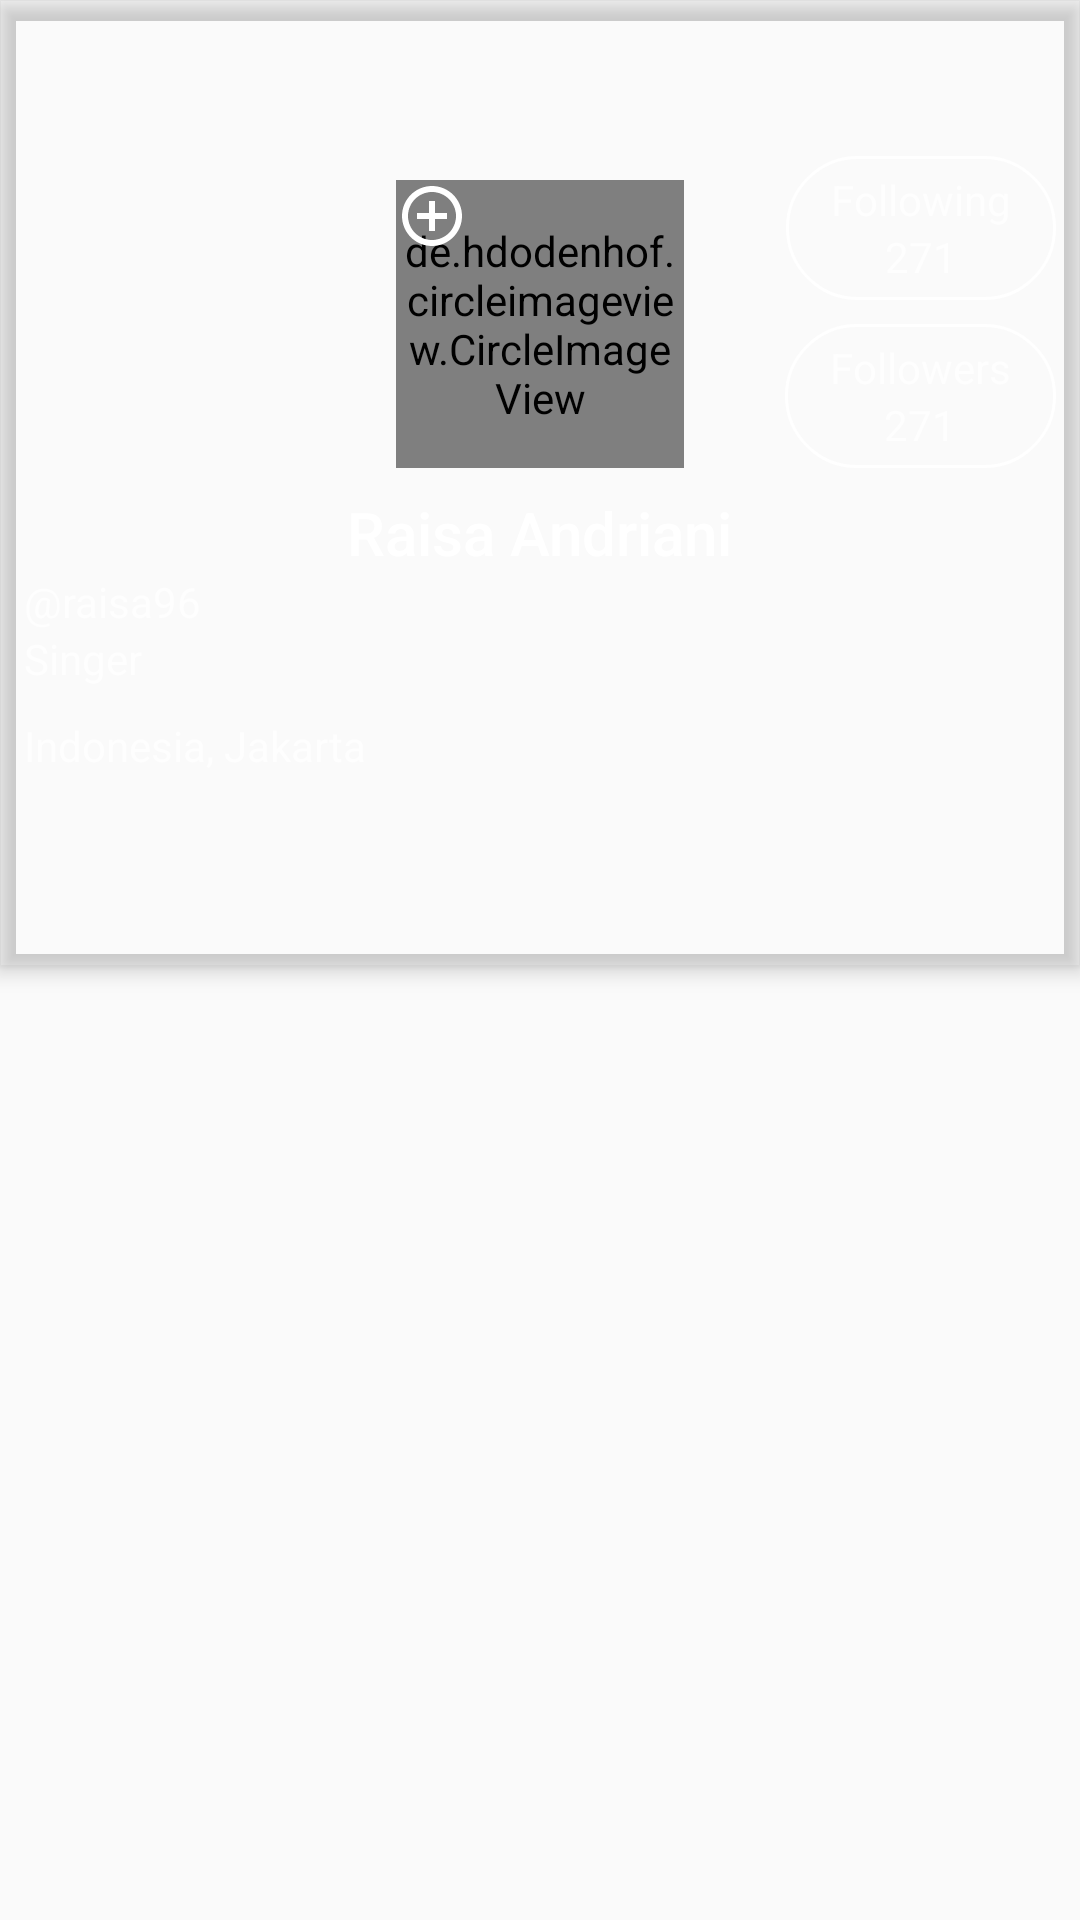

Icons on this 1080w x 1920h Android screen, each with the point to tap as (x,y):
add circle: (432,216)
